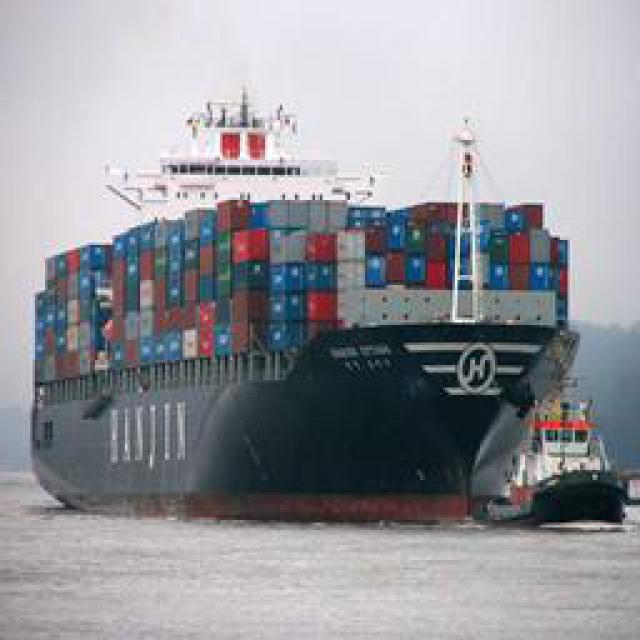Ship: (26, 80, 585, 525), (481, 345, 634, 535)
